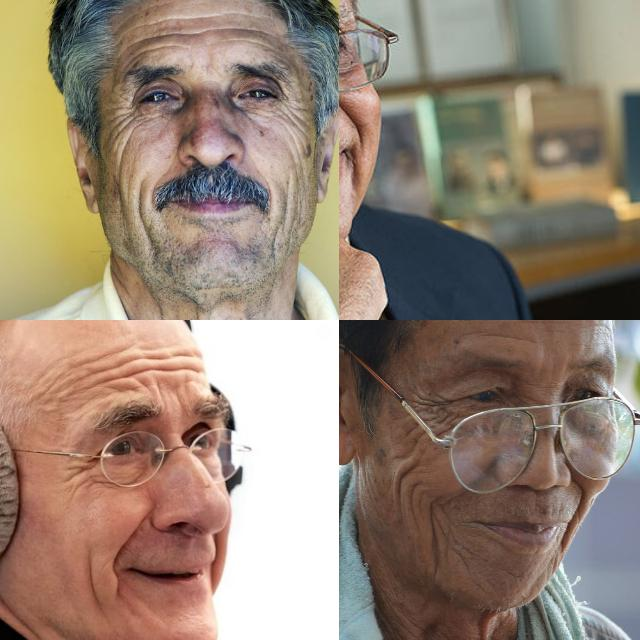chin: (456, 546, 478, 584)
crows_feet: (414, 394, 446, 436), (68, 456, 98, 489), (114, 95, 140, 132), (282, 86, 302, 130)
forehead: (190, 13, 262, 44), (130, 20, 180, 52), (165, 344, 201, 380), (134, 348, 160, 392), (95, 354, 127, 388), (480, 327, 530, 348), (54, 366, 90, 392)
gummy_smile: (110, 522, 138, 560), (569, 475, 589, 525), (339, 99, 363, 136)
masseter: (390, 455, 418, 511), (78, 560, 106, 606), (110, 152, 126, 210), (131, 180, 147, 236), (288, 145, 310, 185), (278, 192, 294, 240)
sad_smile: (423, 508, 449, 576), (256, 162, 276, 212), (149, 185, 157, 209)
